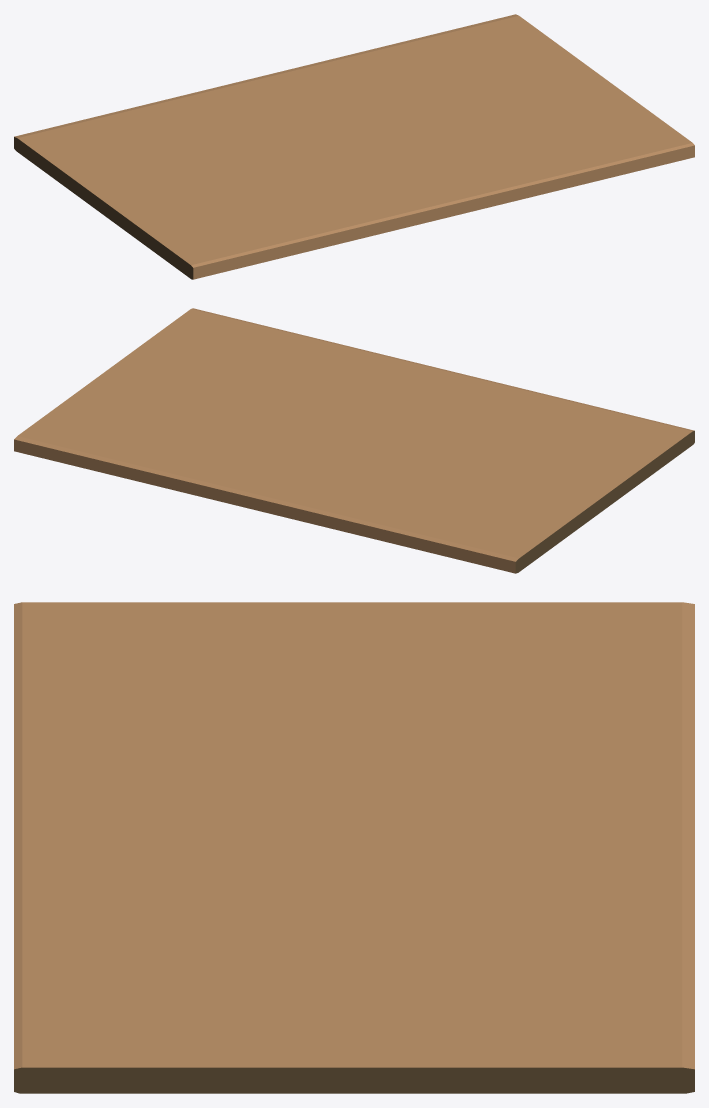
The model's file is Wood_Sheeeeeeeeeet.fbx.
3 views of the same model, one above another, from view 1: azimuth 30°, elevation 25°; view 2: azimuth 150°, elevation 25°; view 3: azimuth 270°, elevation 25° (orthographic). The views are drawn at different scales.
Visible parts, largest first — view 1: Cube.005; view 2: Cube.005; view 3: Cube.005.
Part boxes in pixels (x1,y1,x2,y2): Cube.005: (14, 14, 694, 279); Cube.005: (14, 308, 694, 573); Cube.005: (14, 602, 694, 1093).
Bounding box in the file's own units: 317 × 8.36 × 196.
